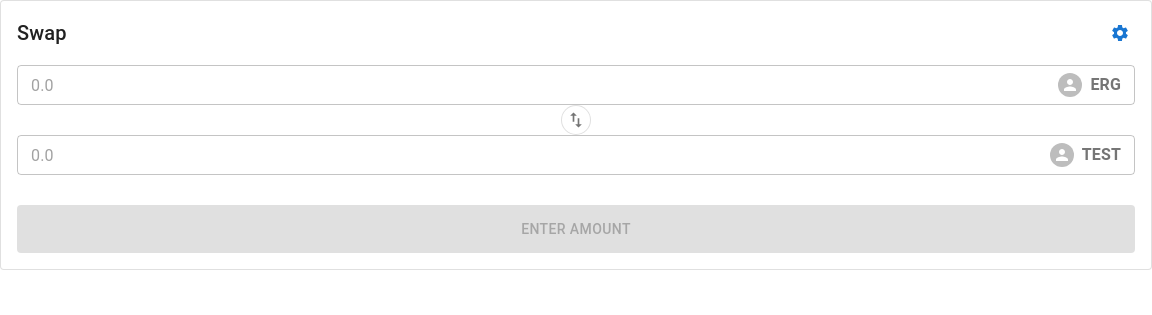
Scenario: SwapWidget › Decimal Validation › validates decimal places for From field based on token decimals
Check: the heading "Swap" is shown, box [17,17,67,49]
Type "1.1234567890" into the field with placeholder "0.0" next to "ERG" at (538, 85), box [17,65,1058,105]
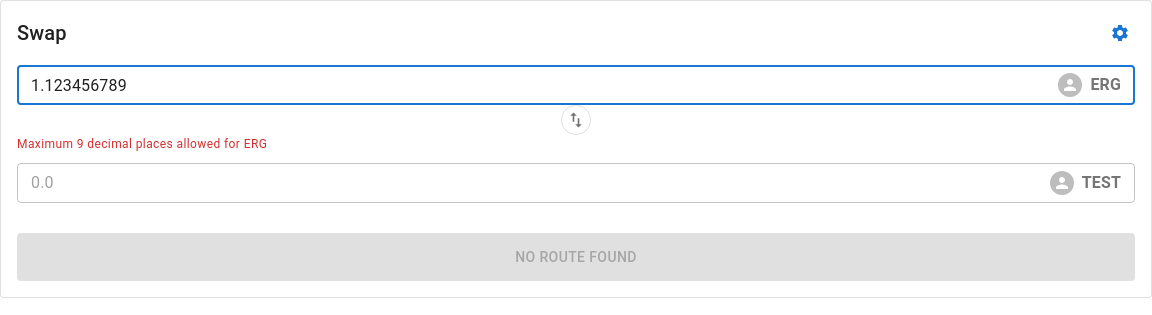
Check: the text "Maximum 9 decimal places allowed for ERG" is shown, box [17,137,267,151]
